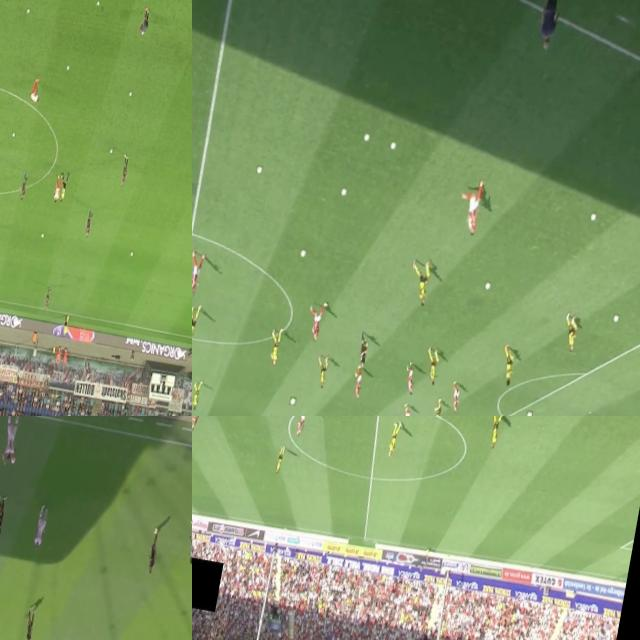ball: (255, 163, 264, 175), (612, 311, 620, 324), (483, 279, 491, 292), (298, 246, 306, 258), (589, 210, 597, 221), (288, 396, 296, 406), (9, 456, 15, 468), (389, 140, 396, 149), (363, 132, 370, 141), (339, 187, 346, 196), (128, 248, 134, 258), (126, 90, 132, 100), (64, 62, 70, 72), (94, 0, 101, 8), (9, 129, 14, 139), (39, 231, 44, 241), (26, 6, 30, 15), (527, 409, 532, 416), (189, 126, 192, 136), (109, 148, 112, 154)
player: (406, 254, 434, 306), (303, 295, 329, 344), (0, 416, 24, 464), (144, 528, 164, 578), (421, 344, 442, 388), (32, 499, 50, 548), (266, 324, 285, 366), (499, 341, 516, 385), (313, 351, 330, 392), (400, 358, 418, 396), (192, 247, 205, 299), (386, 420, 401, 461), (20, 604, 37, 640), (485, 416, 502, 452), (182, 516, 192, 571), (350, 362, 364, 398), (448, 377, 462, 412), (192, 299, 202, 346), (293, 416, 312, 440), (136, 5, 150, 36), (117, 153, 130, 186), (192, 377, 204, 411), (17, 170, 30, 200), (0, 497, 8, 545), (28, 77, 42, 104), (430, 393, 446, 416), (82, 209, 93, 238), (274, 448, 284, 478), (42, 282, 51, 312), (192, 416, 204, 434), (400, 400, 413, 416)
